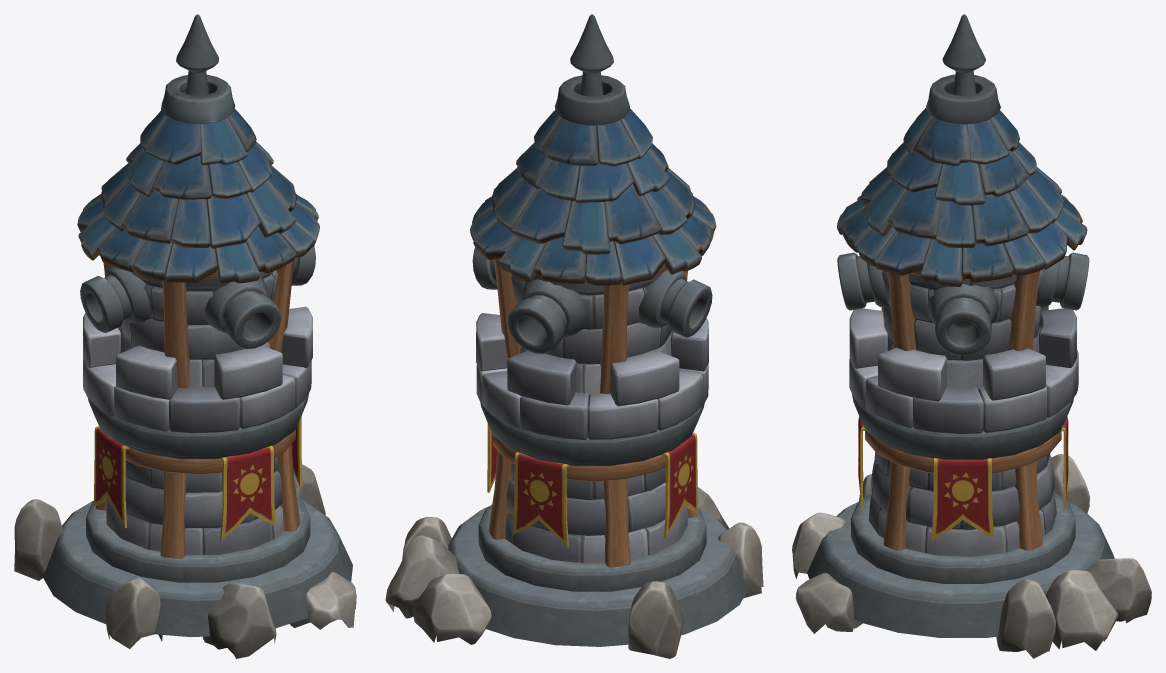
File: SM_TowerDefense_Generic_Lv3.fbx
The picture shows the model from 3 angles, left to right: view 1: azimuth 30°, elevation 25°; view 2: azimuth 150°, elevation 25°; view 3: azimuth 270°, elevation 25°; orthographic projection.
Visible parts, largest first — view 1: SM_TowerDefense_Generic_Lv3; view 2: SM_TowerDefense_Generic_Lv3; view 3: SM_TowerDefense_Generic_Lv3.
Boxes of the visible parts, box(x1,y1,x2,y2) form: SM_TowerDefense_Generic_Lv3: box(14, 14, 356, 658); SM_TowerDefense_Generic_Lv3: box(385, 14, 763, 658); SM_TowerDefense_Generic_Lv3: box(792, 14, 1151, 658).
Bounding box in the file's own units: 928 × 1773 × 997.
